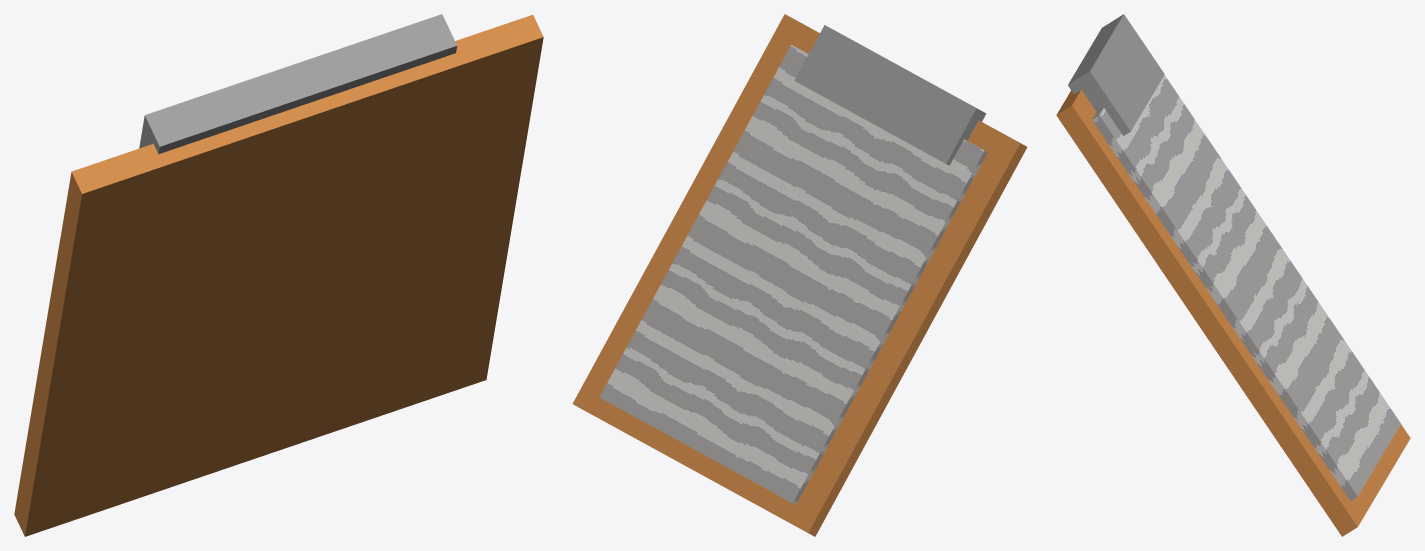
Rendered from DeedPrefab.fbx.
3 views of the same model, side by side, from view 1: azimuth 30°, elevation 25°; view 2: azimuth 150°, elevation 25°; view 3: azimuth 270°, elevation 25° (orthographic). The views are drawn at different scales.
Parts seen in each view (by area): view 1: Cube (1), Cube (2); view 2: Cube, Cube (1), Cube (2); view 3: Cube, Cube (1), Cube (2).
Boxes of the visible parts, x1,y1,x2,y2 form: Cube (1): (14, 14, 543, 536); Cube (2): (139, 14, 457, 154); Cube: (599, 45, 987, 504); Cube (1): (572, 14, 1027, 536); Cube (2): (794, 25, 986, 165); Cube: (1092, 75, 1400, 500); Cube (1): (1056, 90, 1410, 536); Cube (2): (1068, 14, 1164, 135).
Bounding box in the file's own units: 0.8254 × 0.8748 × 0.63.
